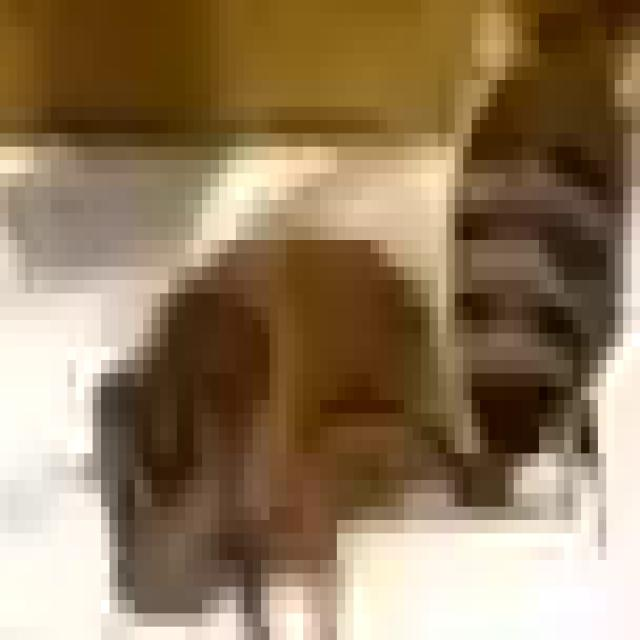honeybee: (106, 234, 588, 592), (454, 0, 614, 464)
